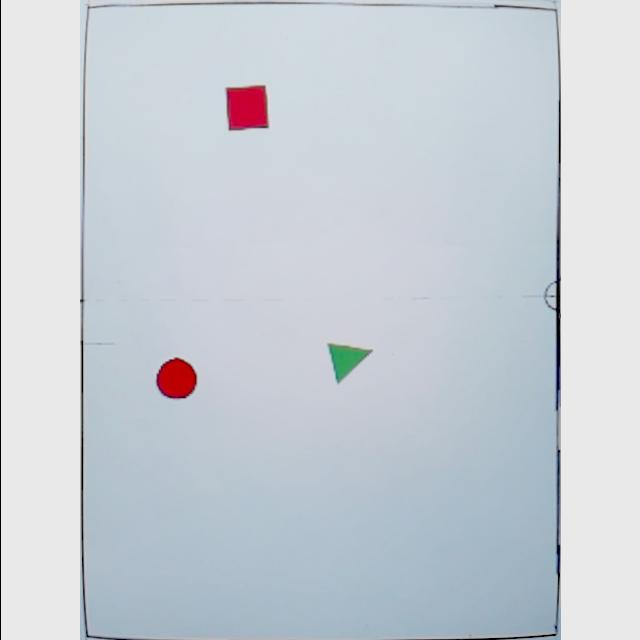greenTriangle: (324, 340, 376, 382)
redCircle: (156, 355, 198, 401)
redSquare: (224, 82, 272, 132)
